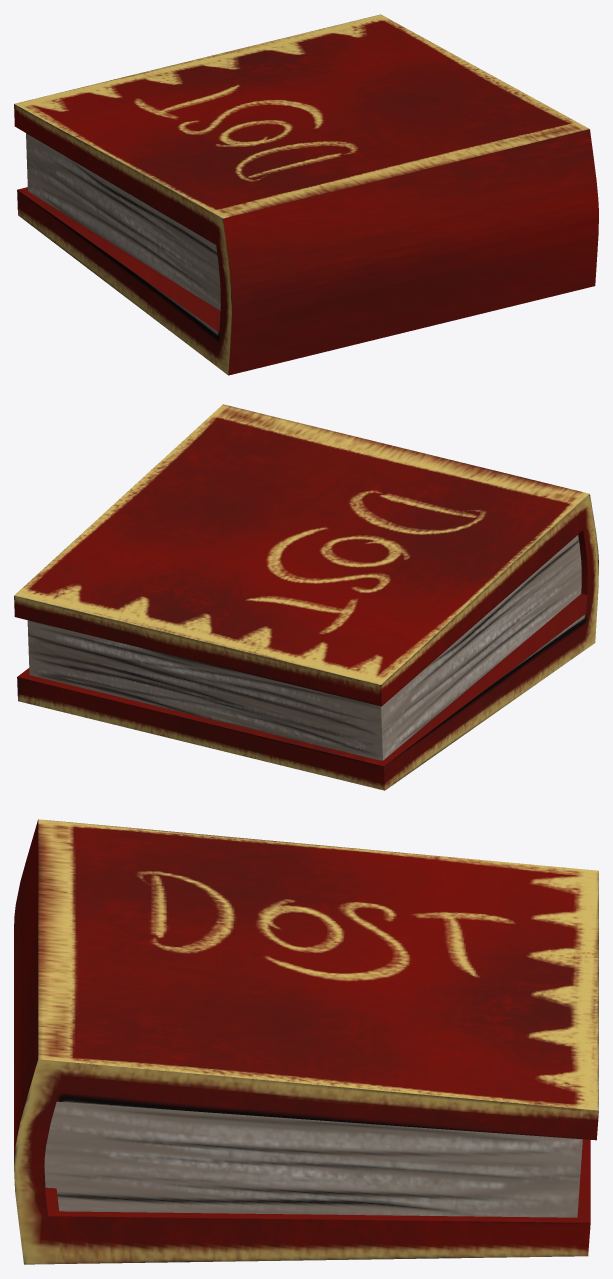
Rendered from Book.fbx.
3 renders of one model, top to bottom at view 1: azimuth 30°, elevation 25°; view 2: azimuth 150°, elevation 25°; view 3: azimuth 270°, elevation 25°, orthographic. The views are drawn at different scales.
Visible parts, largest first — view 1: Cube, Plane; view 2: Cube, Plane; view 3: Cube, Plane.
Part boxes in pixels (x1=…): Cube: x1=14, y1=14, x2=598, y2=375; Plane: x1=26, y1=133, x2=220, y2=310; Cube: x1=14, y1=404, x2=598, y2=790; Plane: x1=27, y1=535, x2=581, y2=760; Cube: x1=14, y1=819, x2=598, y2=1264; Plane: x1=44, y1=1101, x2=582, y2=1217.
Bounding box in the file's own units: 311 × 124 × 320.
